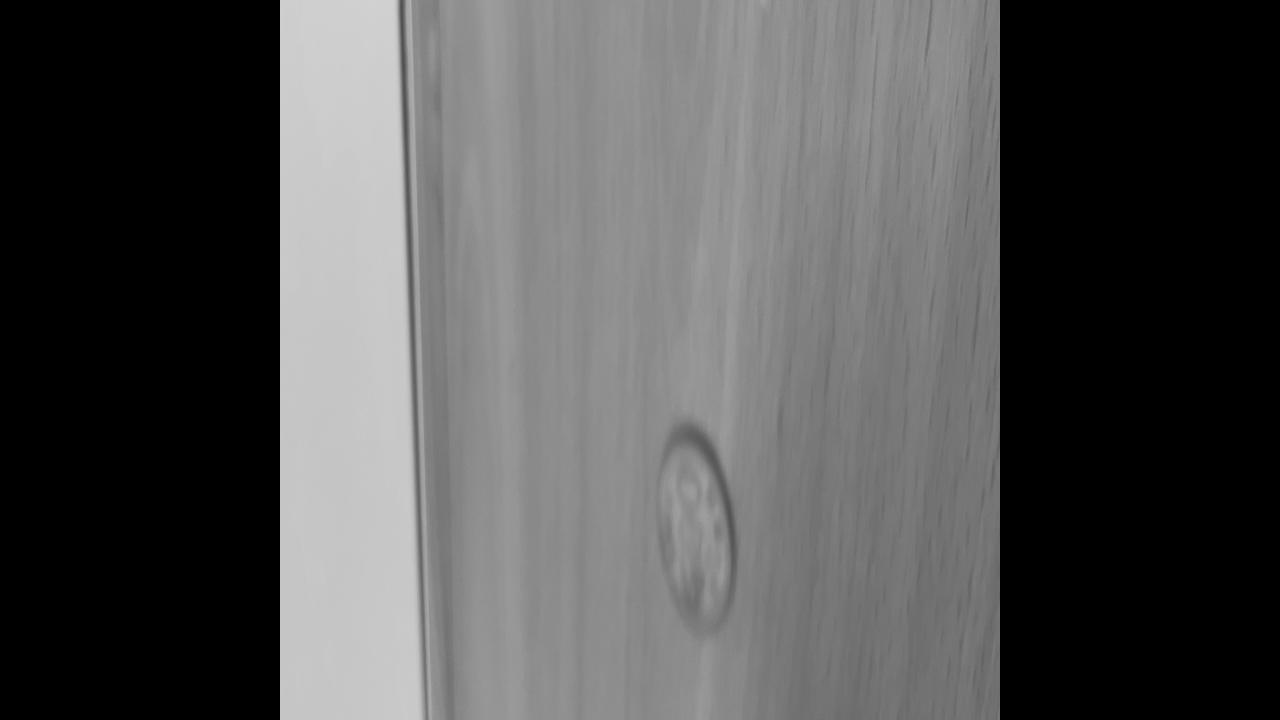coin: (656, 430, 736, 640)
